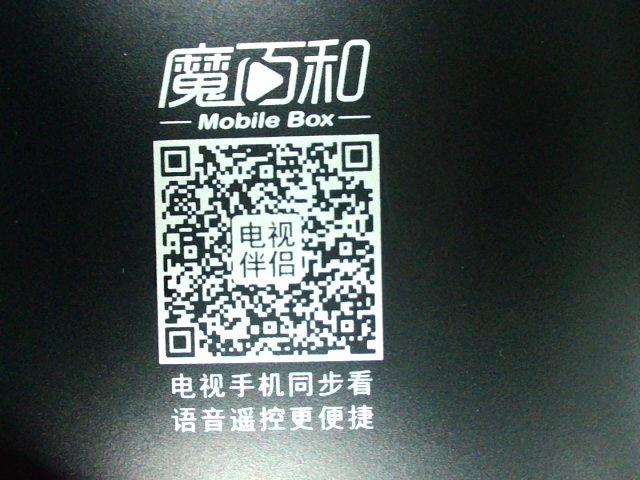AZ_MobileBox: (154, 33, 388, 436)
